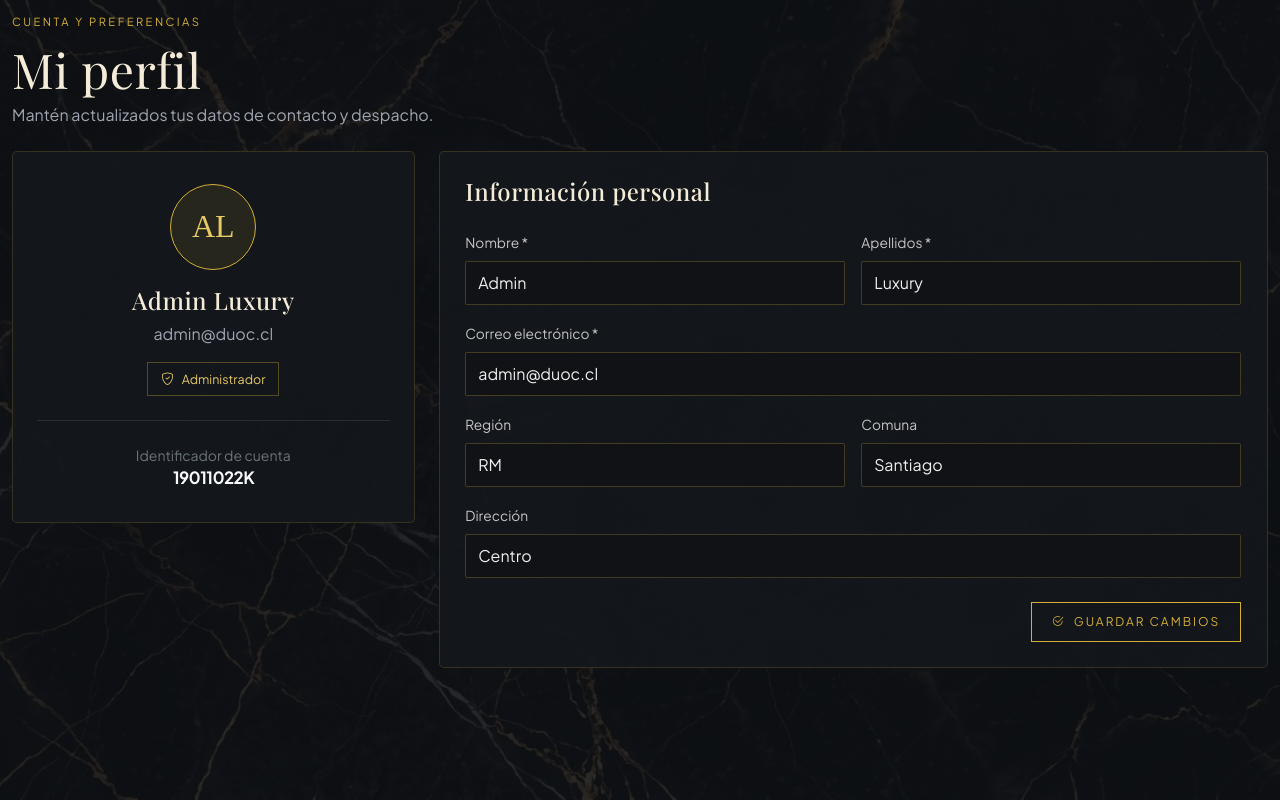
Test: PerfilAdmin › guarda los cambios y actualiza el mensaje de confirmación
This screenshot has width=1280, height=800.
Replace the text in the field labelled "Nombre *" with "Felipe" at coordinates (655, 283), box [465,261,845,305]
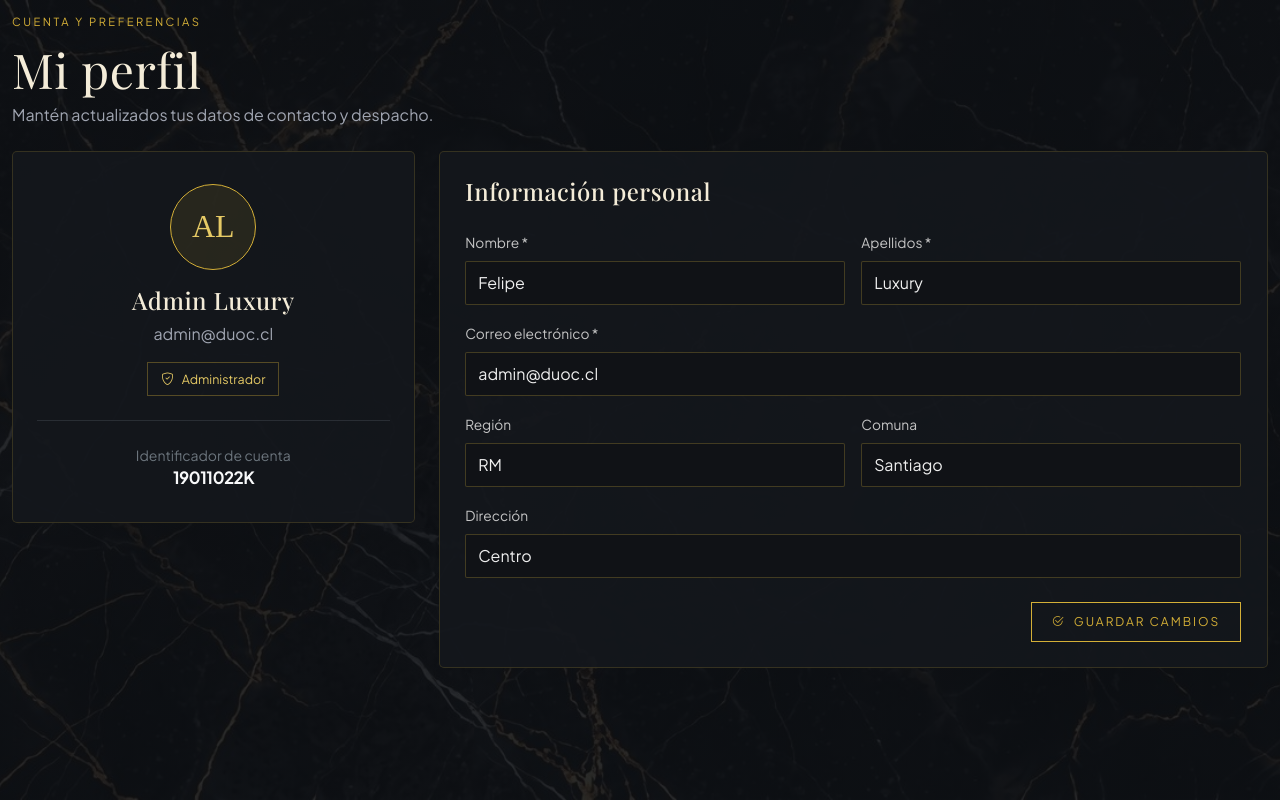
Click the button "Guardar cambios" at coordinates (1136, 622), box [1031,602,1241,642]
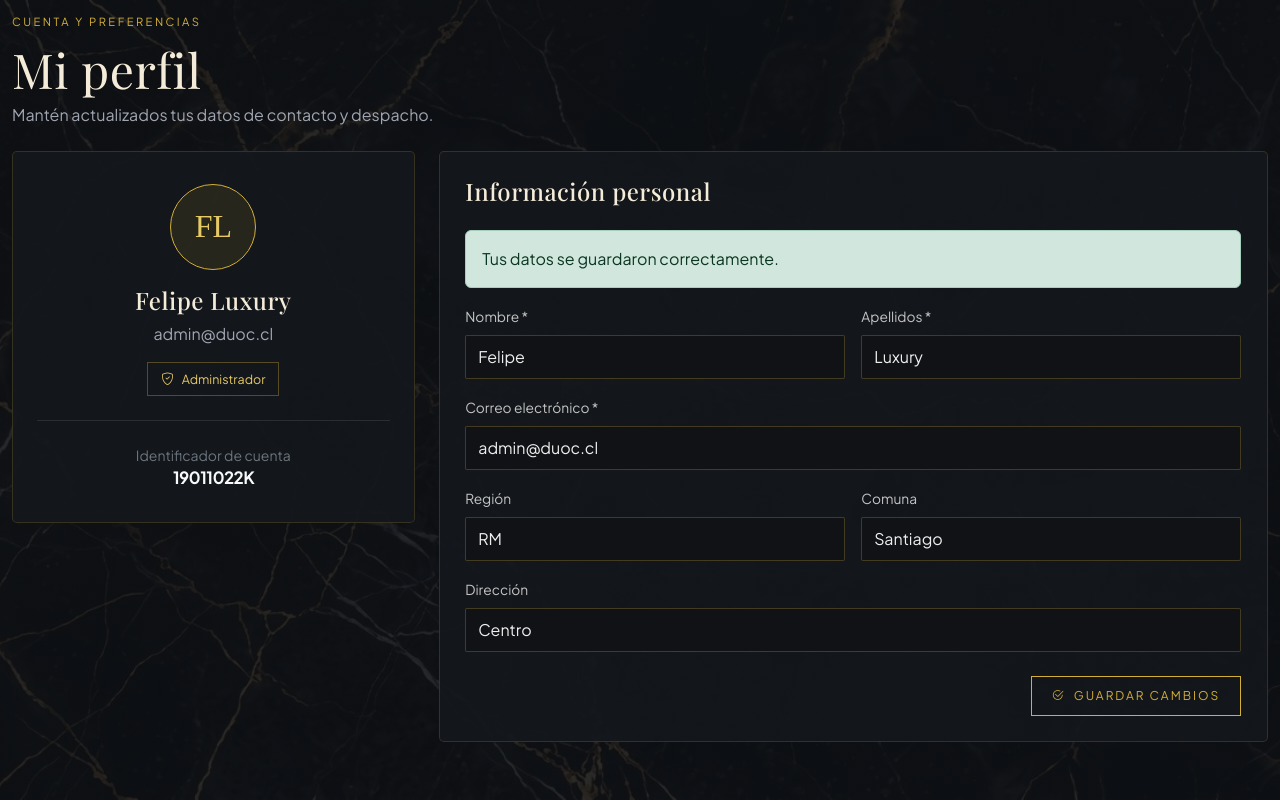
Result: the message reads "Tus datos se guardaron correctamente." at [482,248,779,269]
